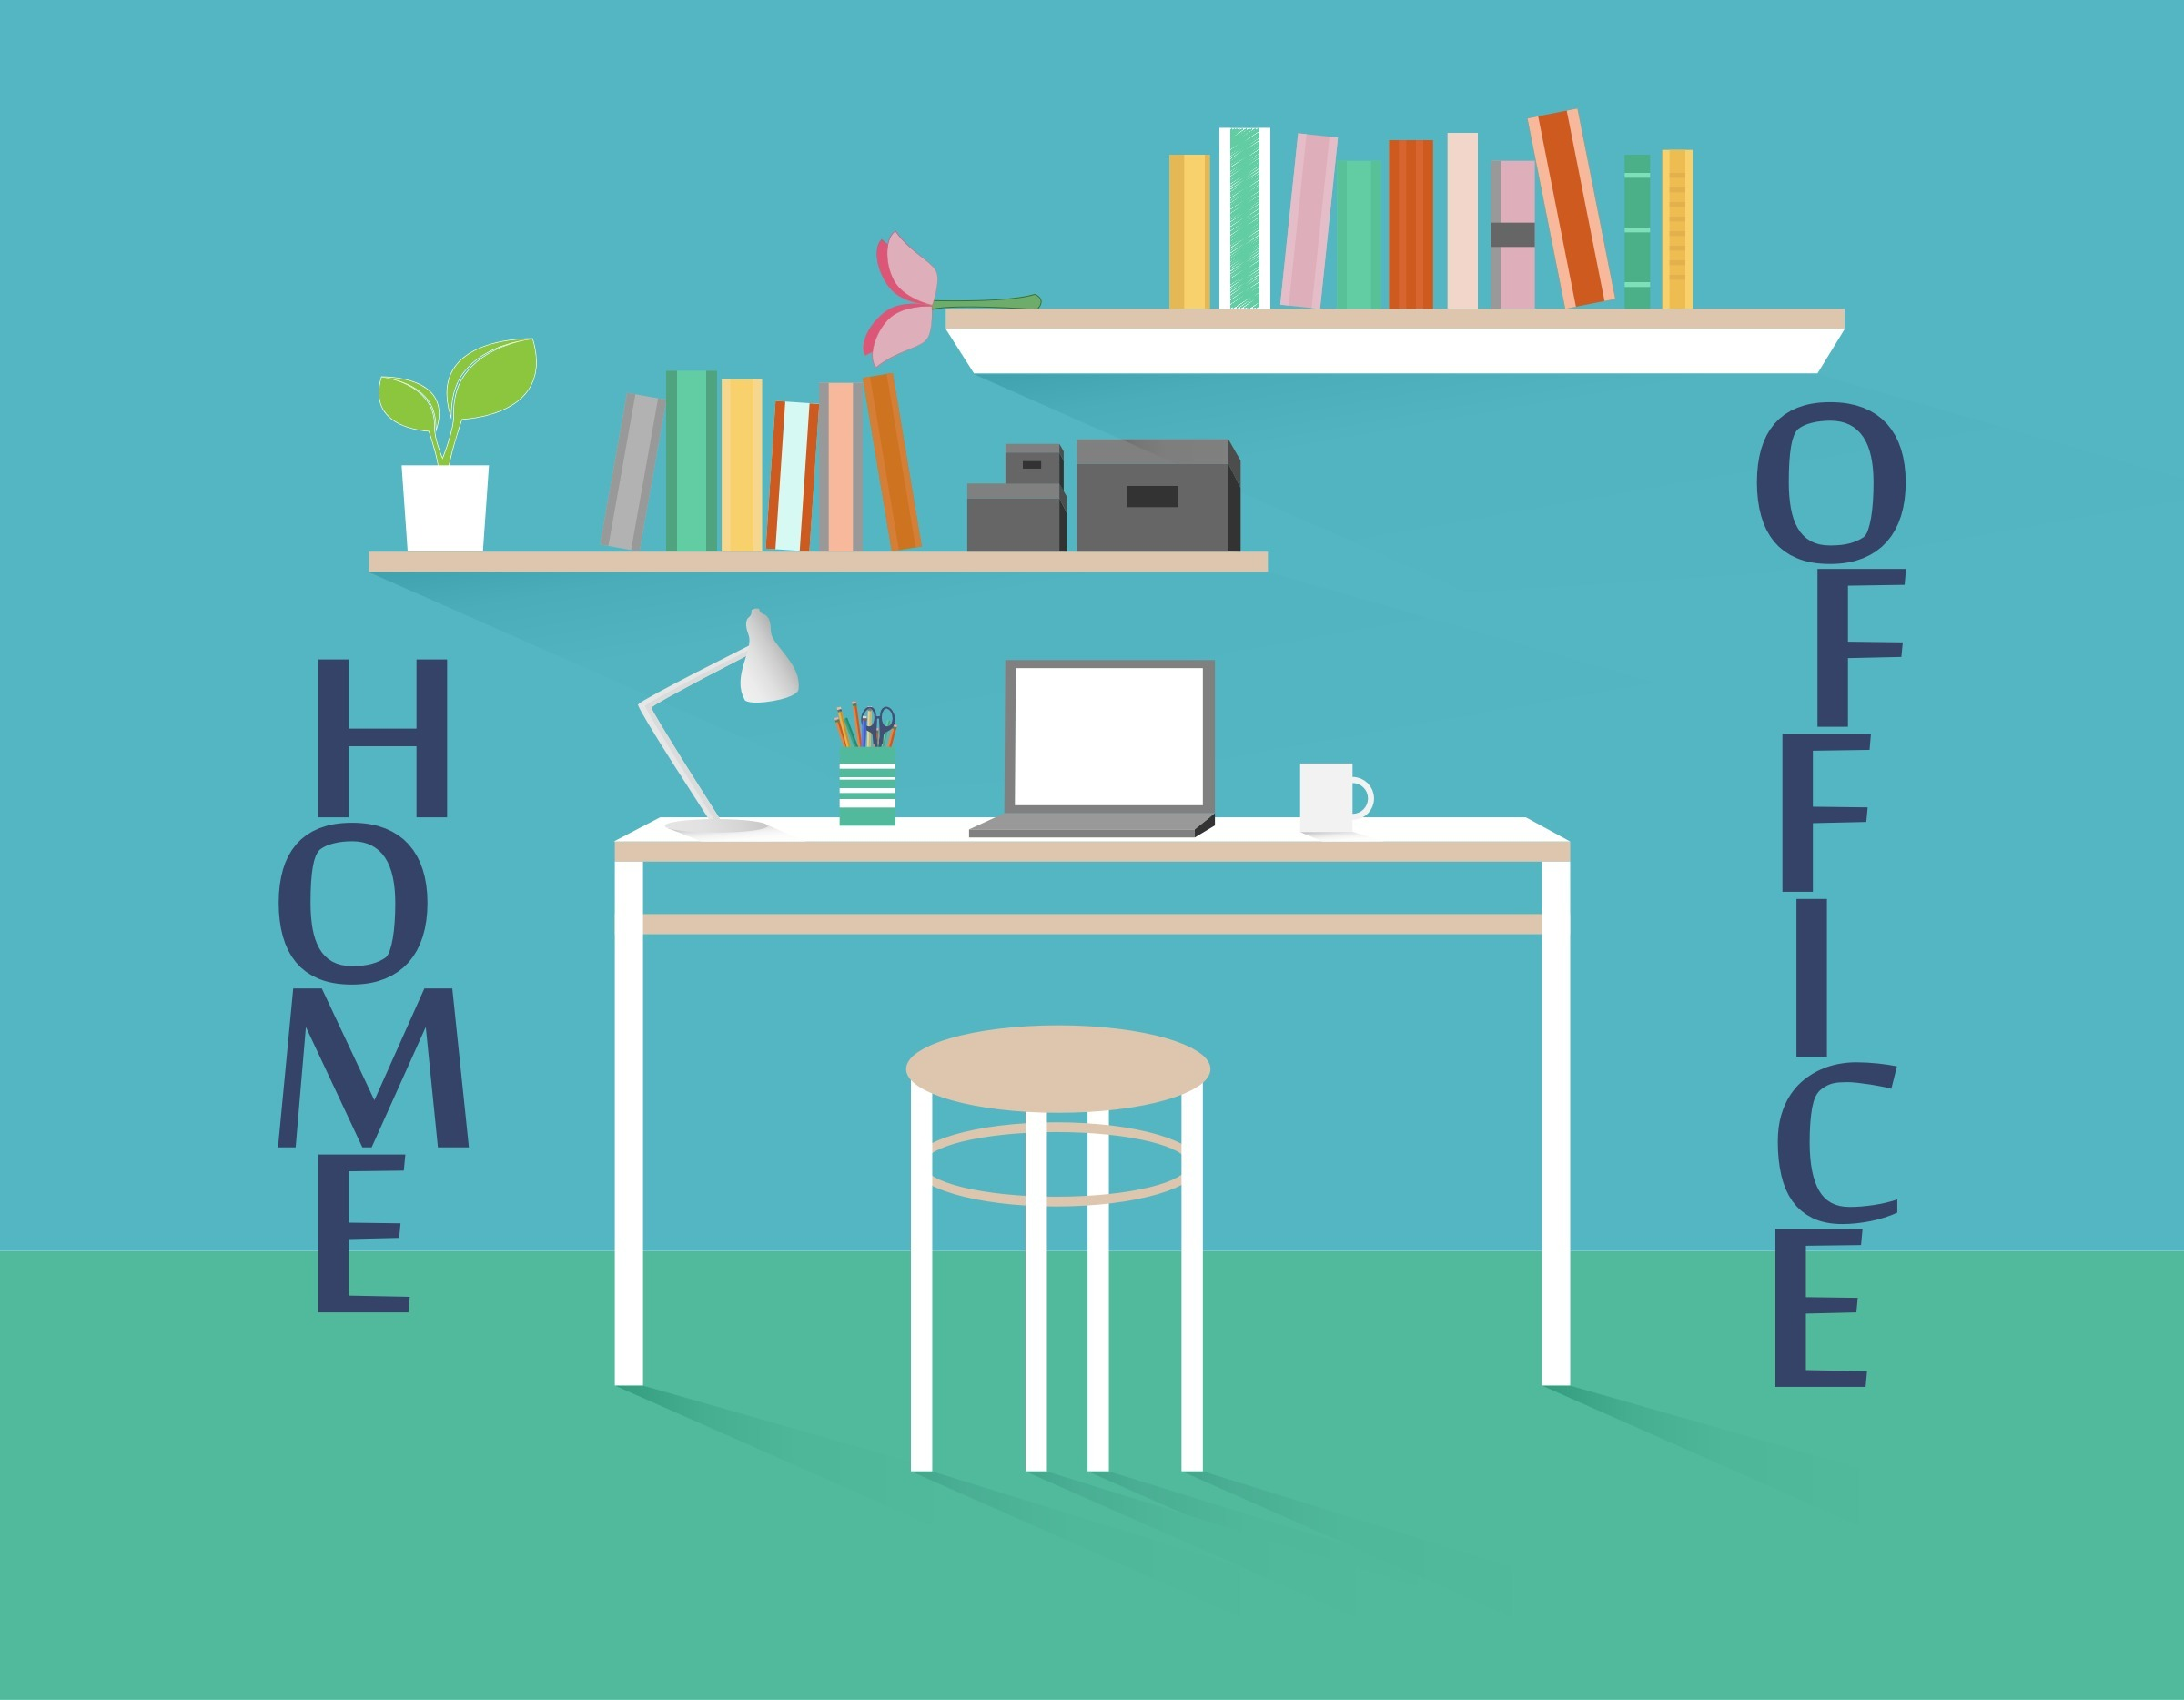chair: (881, 1002, 1260, 1503)
diningtable: (589, 768, 1599, 1422)
pottedplant: (351, 319, 544, 555)
tvmonitor: (952, 635, 1230, 858)
